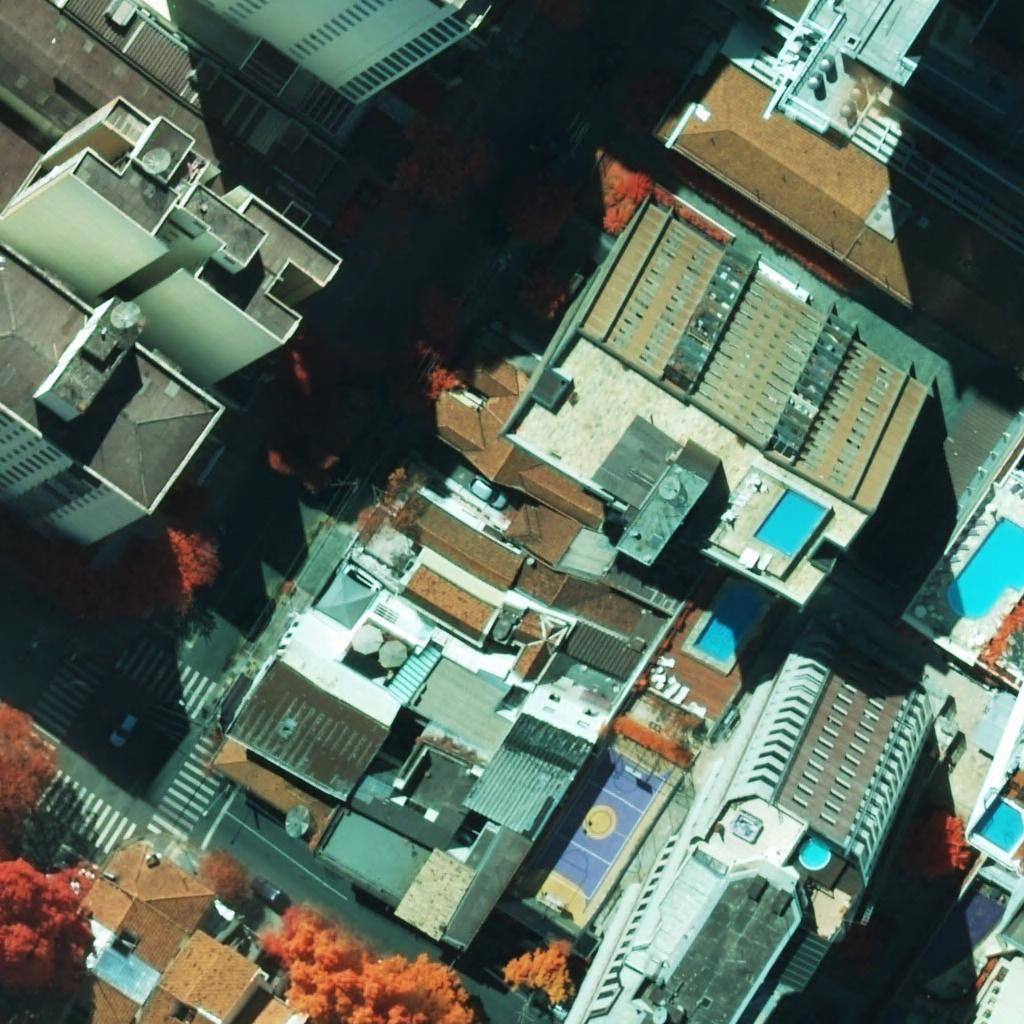pool: (948, 516, 1024, 618), (693, 584, 765, 664), (753, 489, 828, 557), (974, 798, 1024, 853), (801, 841, 828, 867)
